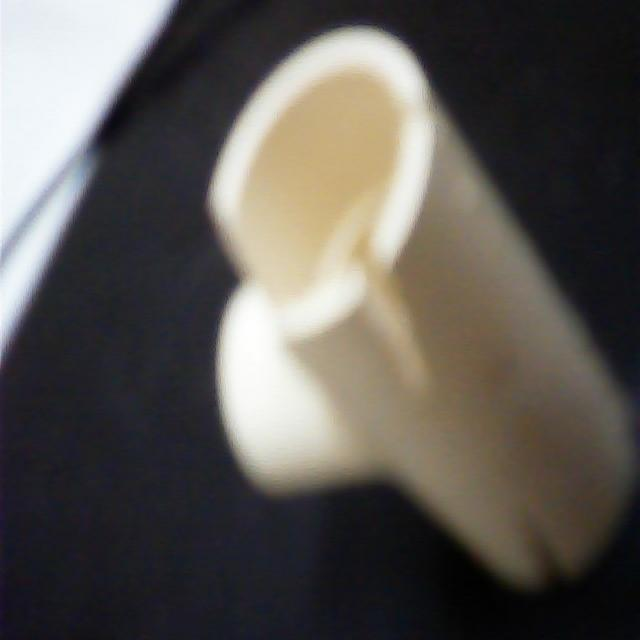Defective: (332, 230, 422, 410)
T Joint: (206, 24, 640, 604)
